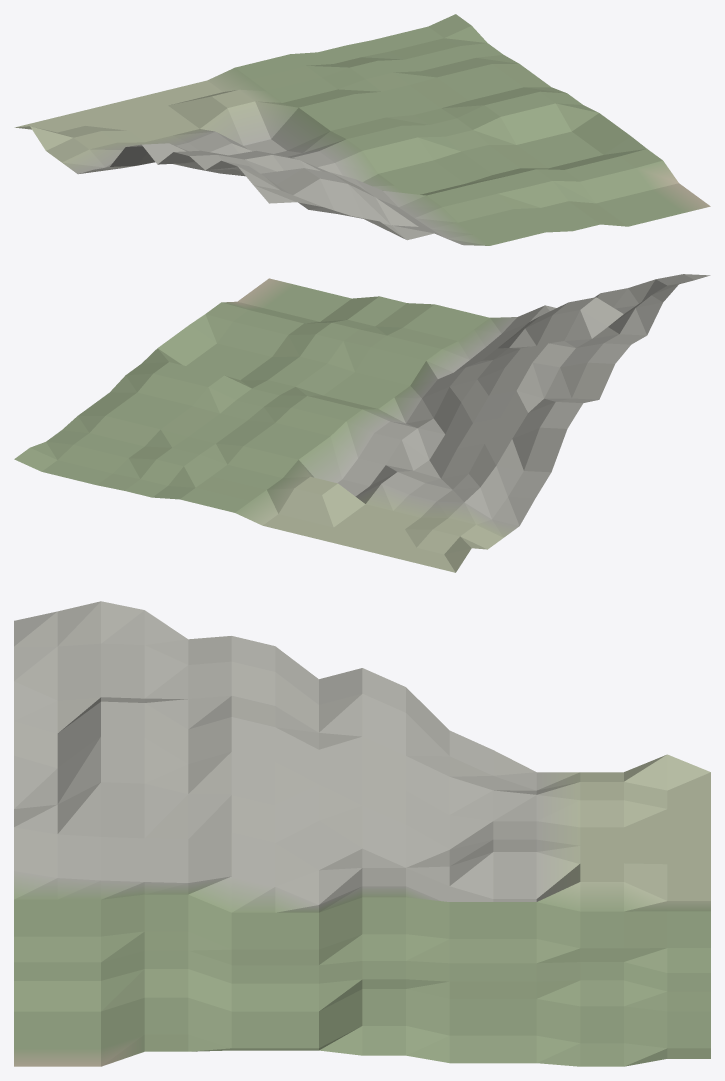
3 renders of one model, top to bottom at view 1: azimuth 30°, elevation 25°; view 2: azimuth 150°, elevation 25°; view 3: azimuth 270°, elevation 25°, orthographic. The views are drawn at different scales.
Size of the model in its own units: 32 by 9.49 by 32.
